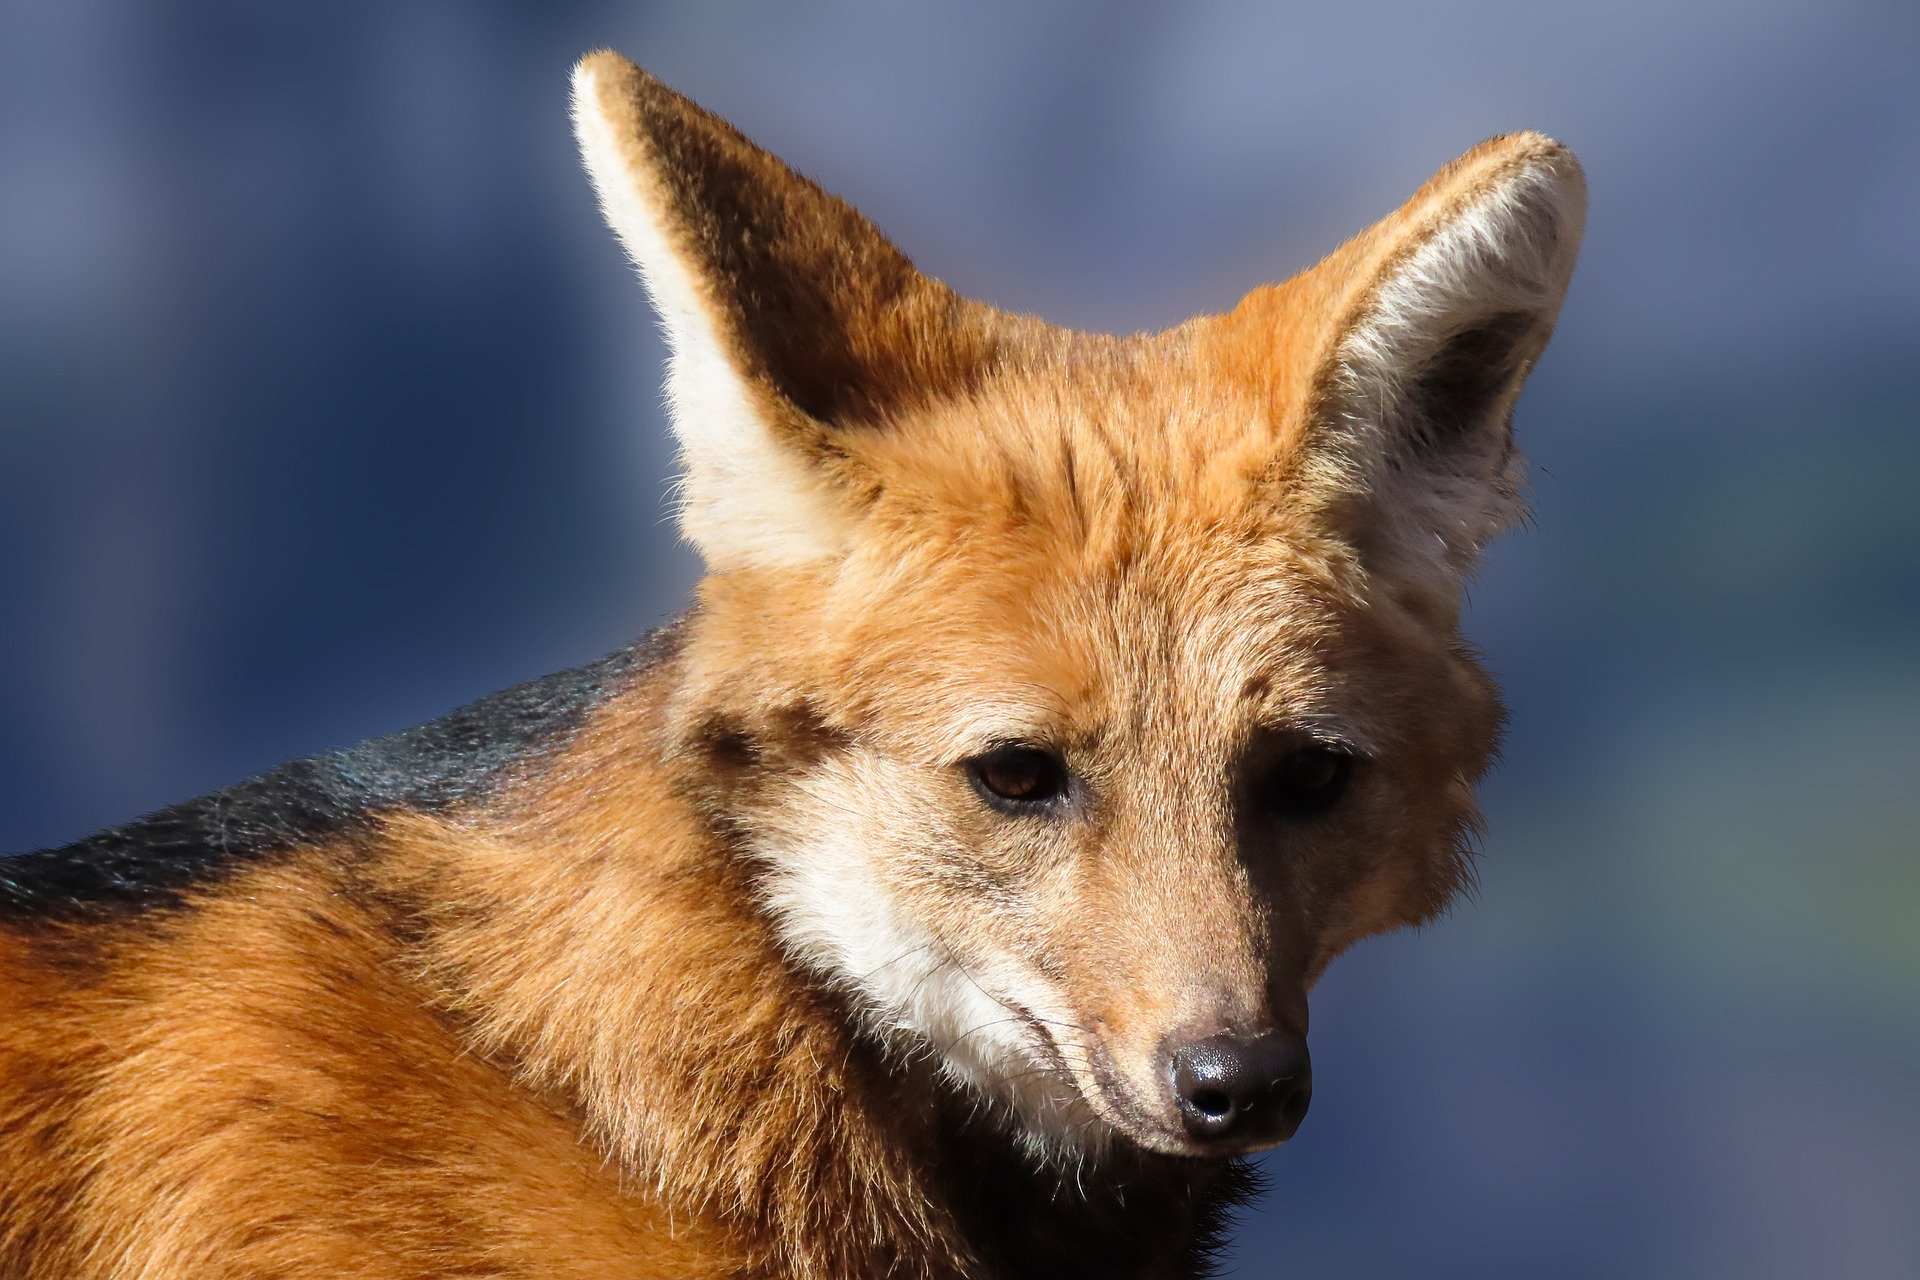LoboGuara: (76, 44, 1600, 1253)
